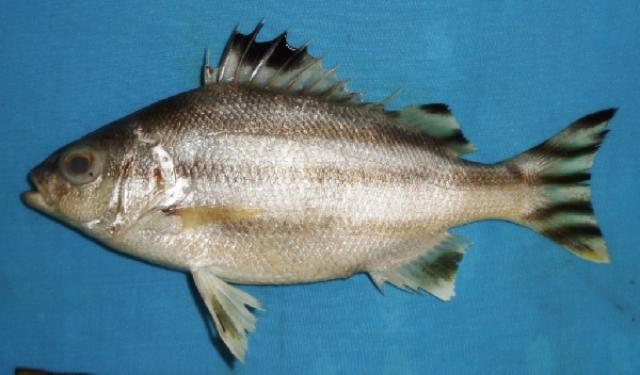Mulut: (12, 157, 62, 221)
Sirip Anal: (367, 223, 475, 309)
Sirip Dada: (161, 194, 275, 240)
Sirip Ekor: (522, 98, 628, 275)
Sirip Perut: (188, 258, 274, 366)
Sirip Punggung: (193, 12, 487, 164)
